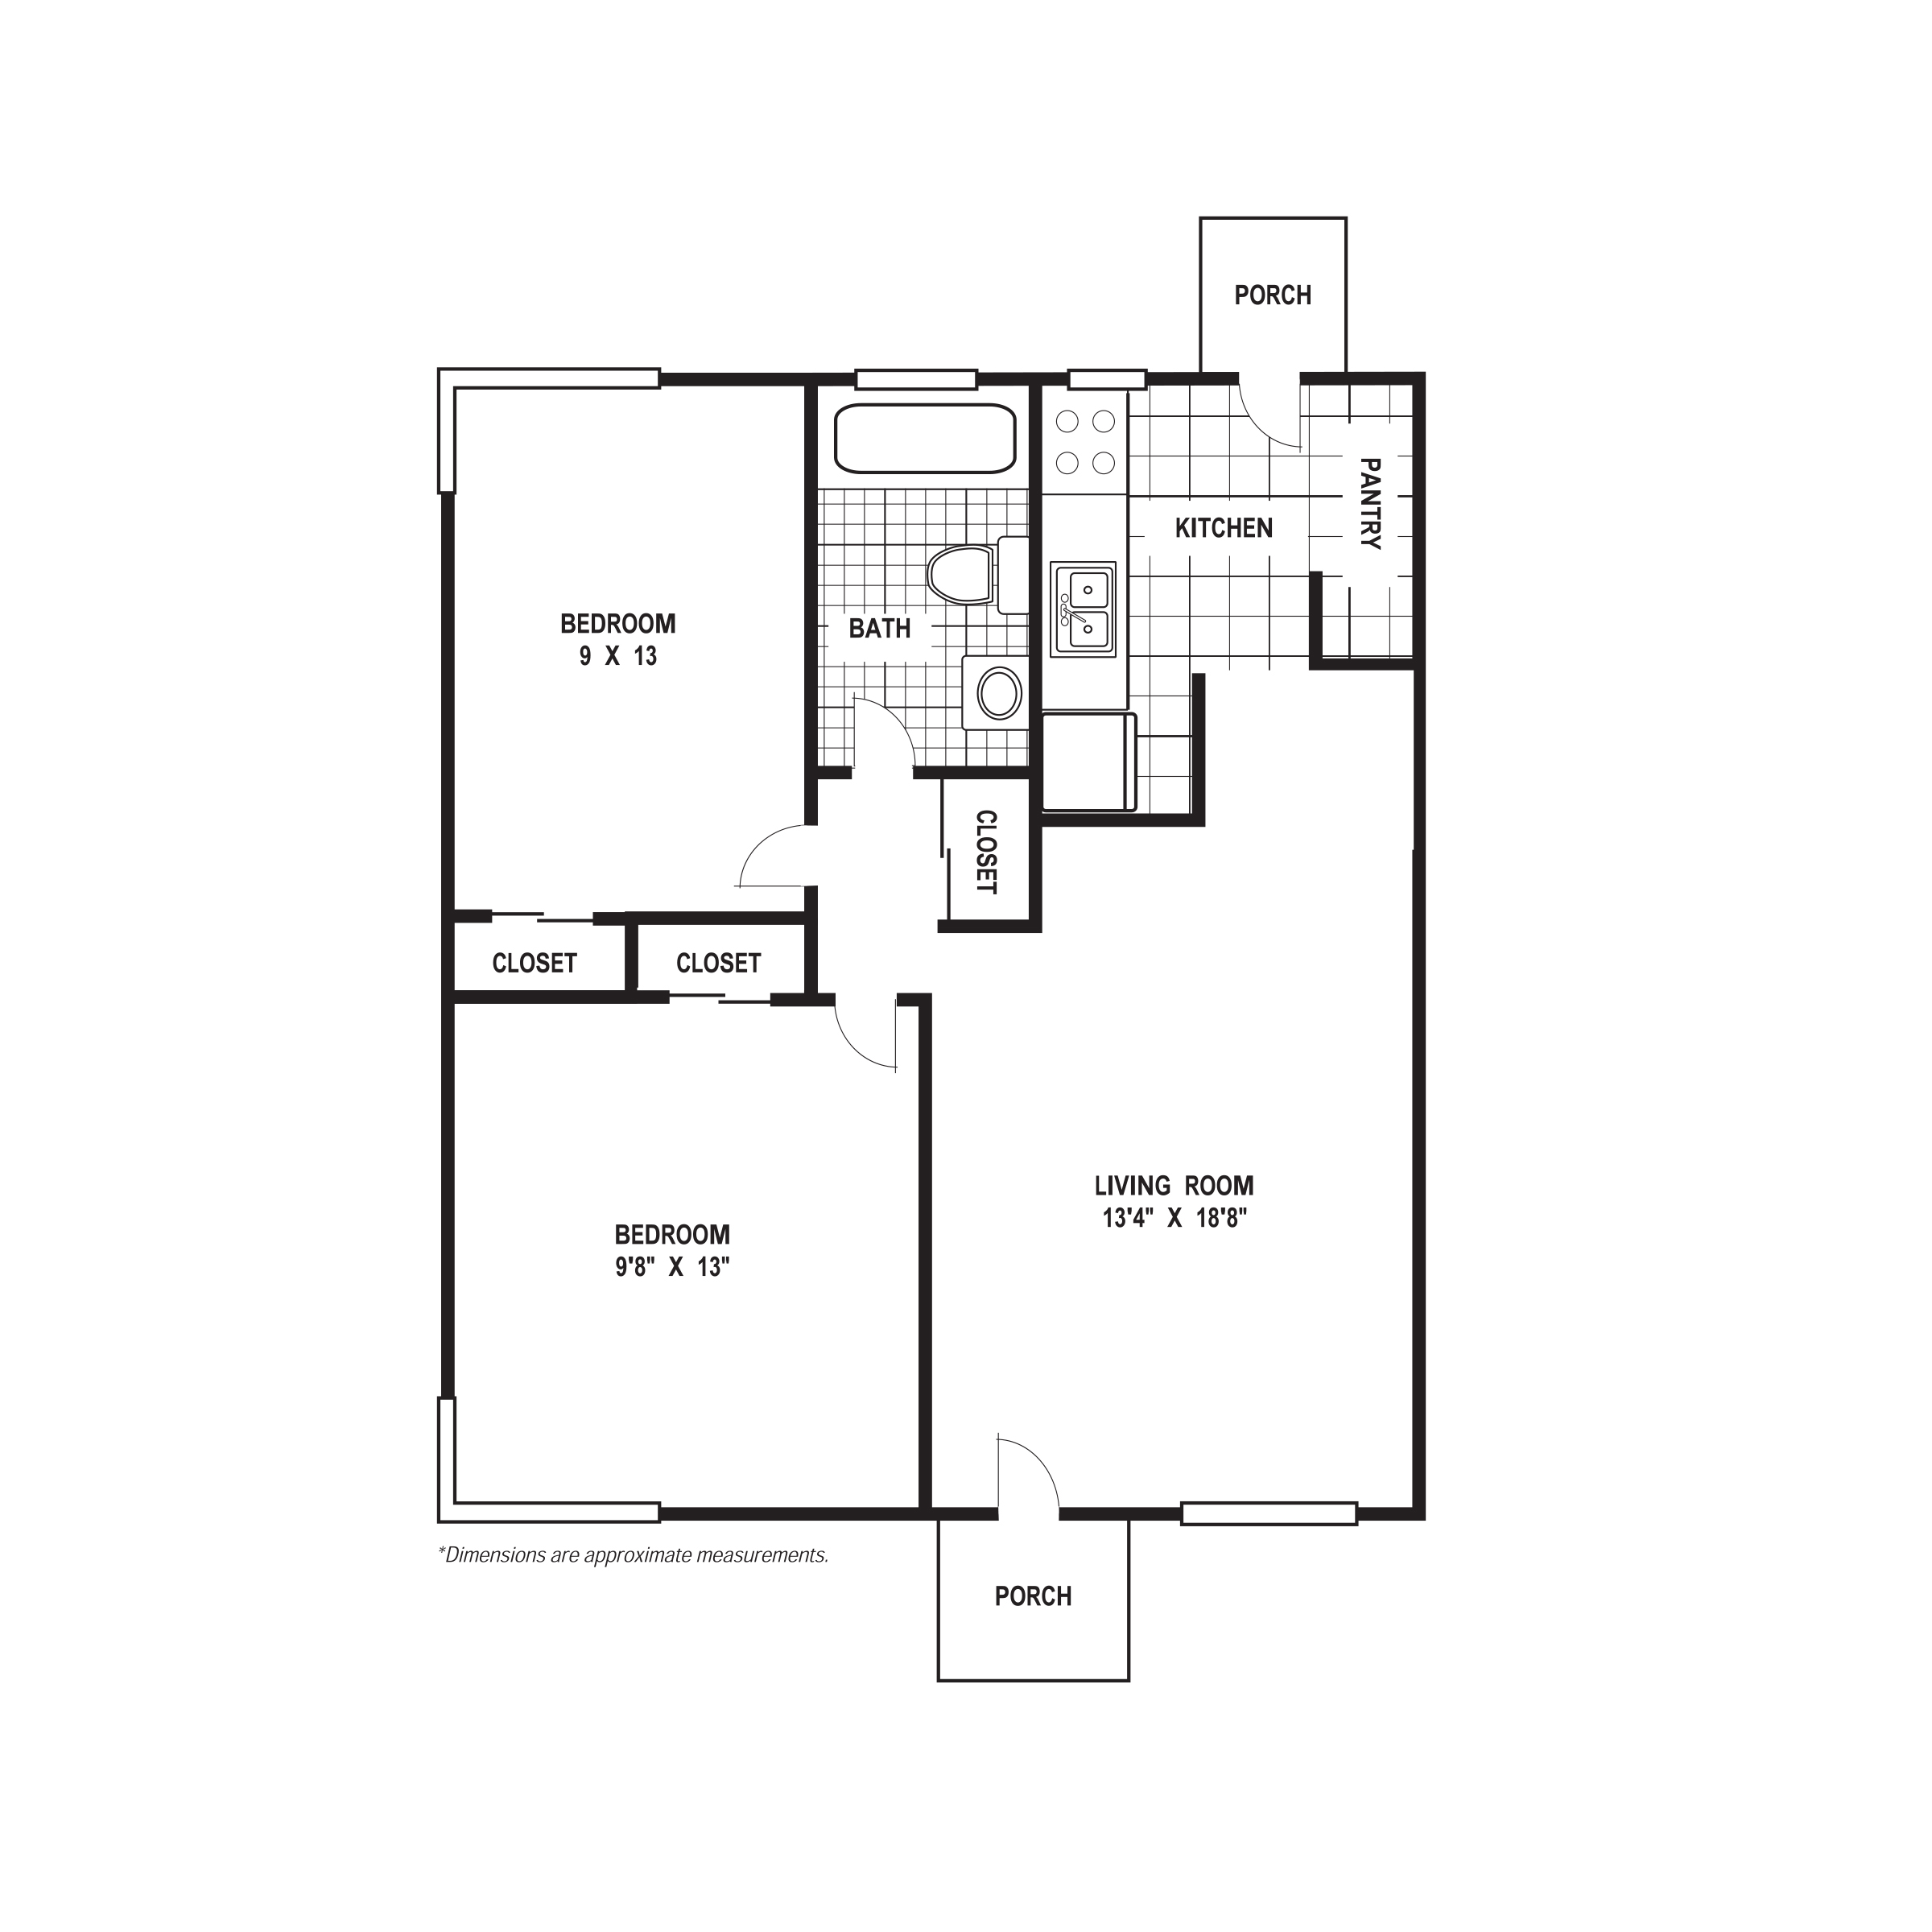room: (915, 373, 1431, 1522), (433, 991, 936, 1523), (437, 372, 819, 924), (805, 366, 1046, 778), (1054, 396, 1407, 582)
